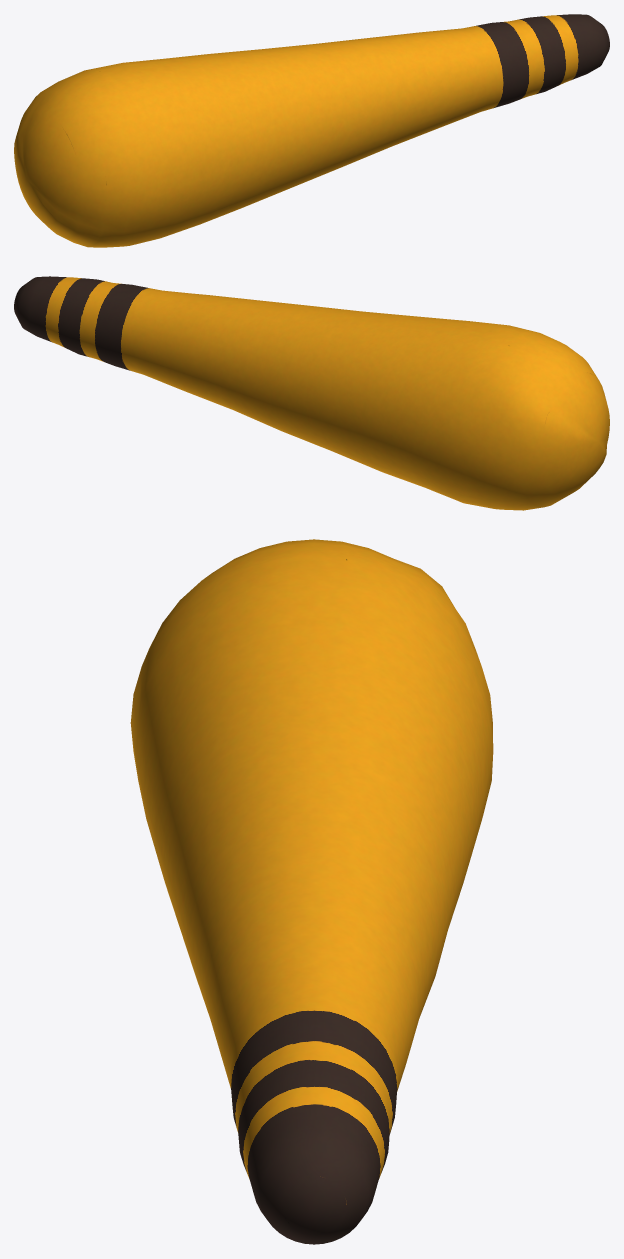
Rendered from sleeve-right.fbx.
3 views of the same model, one above another, from view 1: azimuth 30°, elevation 25°; view 2: azimuth 150°, elevation 25°; view 3: azimuth 270°, elevation 25° (orthographic). The views are drawn at different scales.
Visible parts, largest first — view 1: sleeve-right; view 2: sleeve-right; view 3: sleeve-right.
Part boxes in pixels (<box>): sleeve-right: <box>14,14,609,247</box>; sleeve-right: <box>14,276,609,510</box>; sleeve-right: <box>130,539,493,1244</box>.
Bounding box in the file's own units: 66.5 × 18.06 × 17.97.
Materials: 1 (1 with a texture image).
